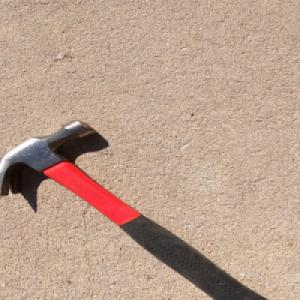Hammer: (0, 118, 273, 300)
